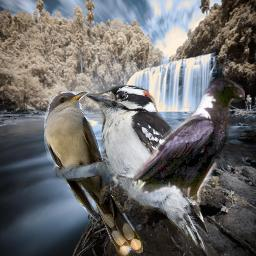Crow: (128, 74, 245, 205)
Cuckoo: (44, 91, 143, 256)
Woodpecker: (84, 85, 208, 255)
